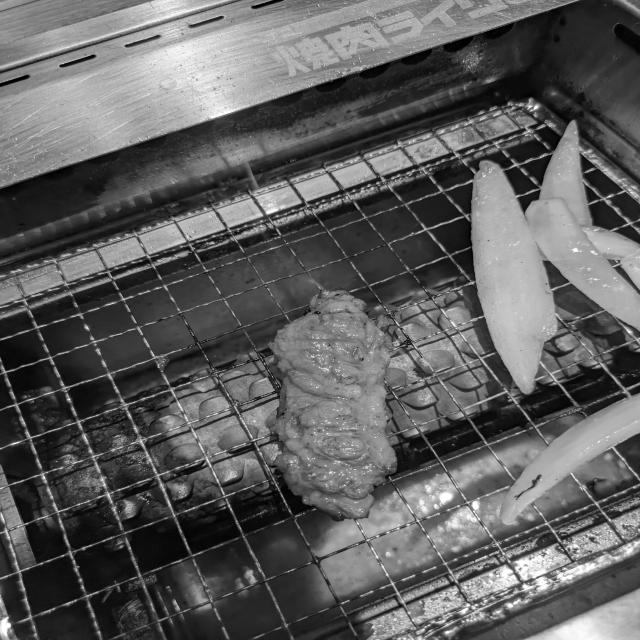OK undercooked beef,: (262, 274, 410, 536)
